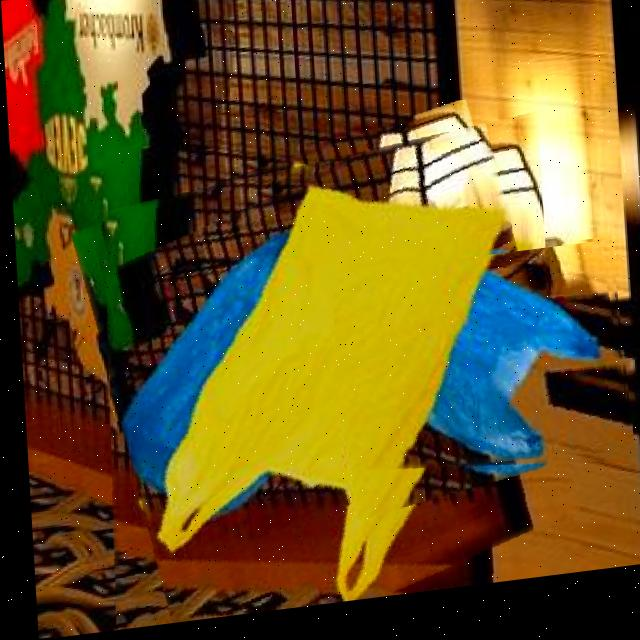litter: (84, 123, 556, 632), (327, 253, 626, 504)
